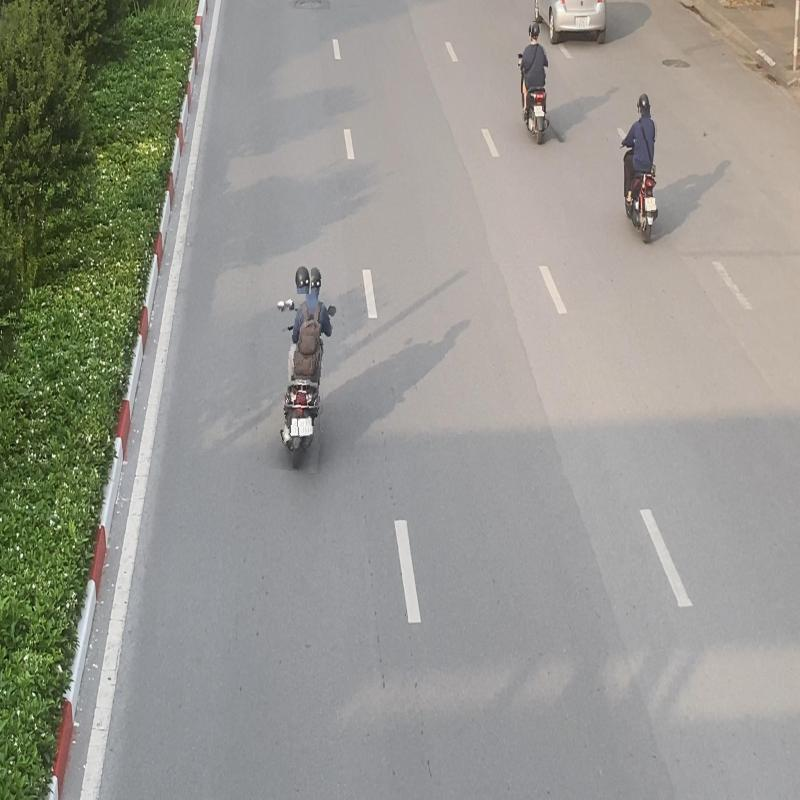helmet: (294, 264, 311, 294), (639, 92, 651, 118), (531, 22, 541, 42)
licenseplate: (296, 416, 312, 436), (644, 198, 656, 212), (534, 105, 543, 117)
motorcyclist: (270, 263, 335, 472), (619, 91, 660, 245), (516, 20, 550, 146)
